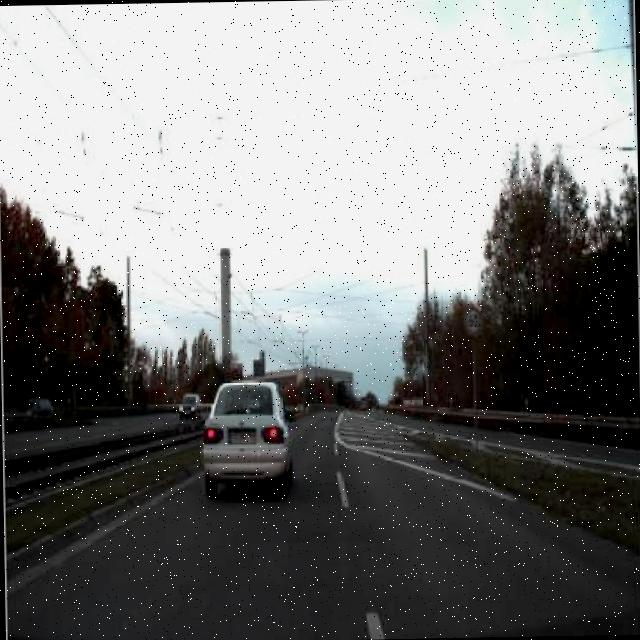Ograniczenie predkosci do 60: (462, 305, 483, 338)
